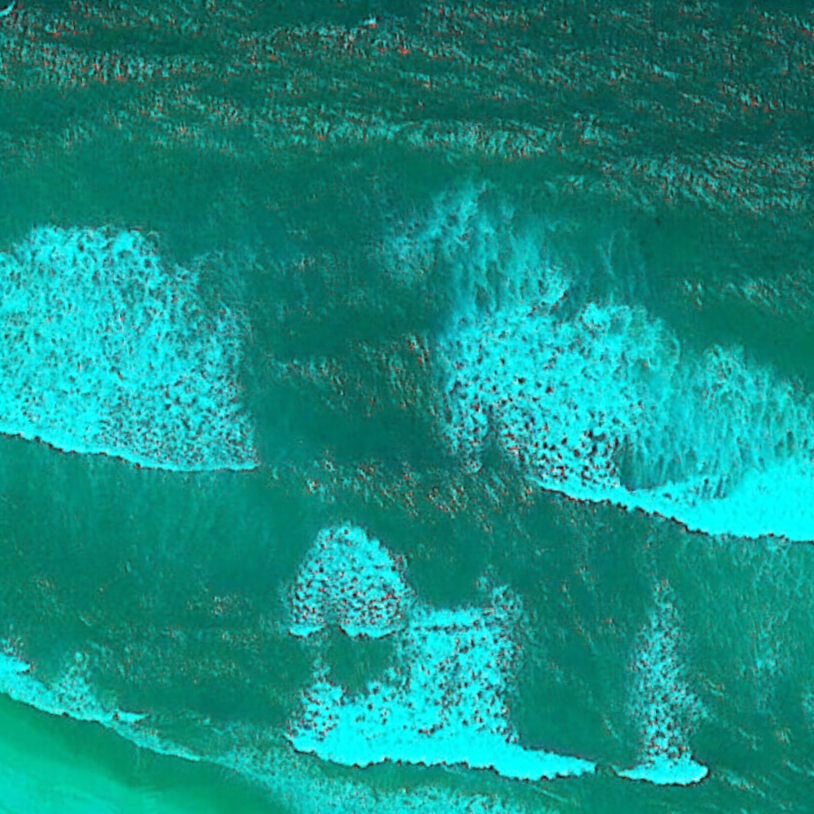rip_current: (168, 153, 523, 573)
